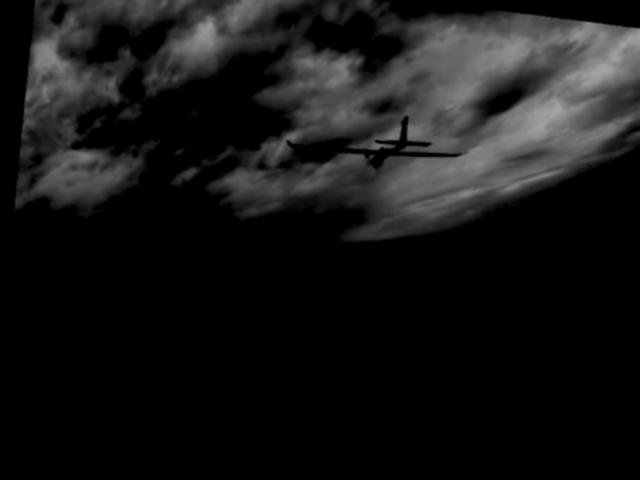hedef: (259, 90, 497, 222)
